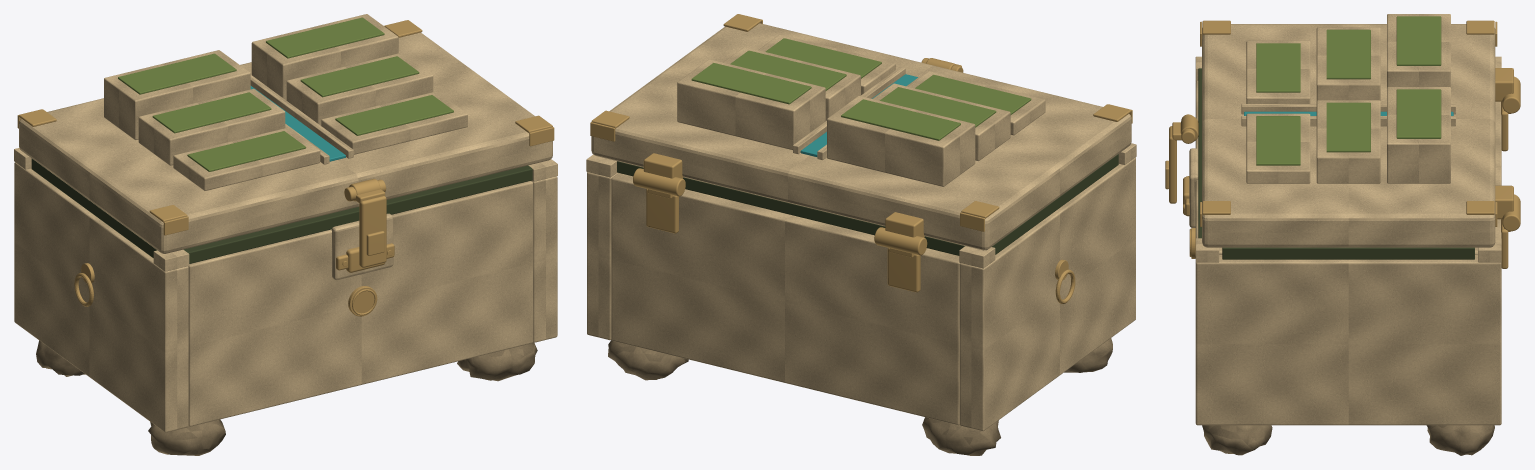
The model's file is oman.glb.
The picture shows the model from 3 angles, left to right: view 1: azimuth 30°, elevation 25°; view 2: azimuth 150°, elevation 25°; view 3: azimuth 270°, elevation 25°; orthographic projection.
Parts seen in each view (by area): view 1: Limestone / long skin, Lid / polished slab, Limestone / side skin, Mineral seam / long, Terrace / stone -1 2, Terrace / stone 1 2, Terrace / stone -1 1, Limestone / side skin.001, Terrace / stone 1 1, Terrace / stone -1 0, Terrace / stone 1 0, Terrace / garden -1 1 (+15 smaller); view 2: Limestone / long skin.001, Lid / polished slab, Limestone / side skin, Terrace / stone -1 2, Terrace / stone 1 2, Limestone / side skin.001, Mineral seam / long.001, Terrace / garden -1 2, Terrace / garden 1 2, Granite foot.001, Terrace / garden 1 1, Terrace / garden -1 0 (+17 smaller); view 3: Limestone / side skin.001, Lid / polished slab, Terrace / stone 1 2, Terrace / stone 1 1, Mineral seam / side.001, Terrace / stone -1 1, Terrace / stone -1 2, Terrace / stone 1 0, Terrace / garden 1 2, Terrace / garden -1 2, Terrace / garden 1 1, Terrace / garden -1 1 (+21 smaller).
Boxes of the visible parts, x1=… form: Limestone / long skin: x1=188, y1=181, x2=533, y2=426; Lid / polished slab: x1=19, y1=32, x2=552, y2=253; Limestone / side skin: x1=14, y1=162, x2=188, y2=432; Mineral seam / long: x1=183, y1=165, x2=532, y2=263; Terrace / stone -1 2: x1=104, y1=50, x2=250, y2=139; Terrace / stone 1 2: x1=251, y1=14, x2=398, y2=100; Terrace / stone -1 1: x1=138, y1=88, x2=285, y2=165; Limestone / side skin.001: x1=531, y1=176, x2=557, y2=342; Terrace / stone 1 1: x1=286, y1=52, x2=433, y2=125; Terrace / stone -1 0: x1=173, y1=127, x2=320, y2=190; Terrace / stone 1 0: x1=321, y1=91, x2=467, y2=154; Terrace / garden -1 1: x1=152, y1=92, x2=271, y2=133; Limestone / long skin.001: x1=611, y1=173, x2=959, y2=425; Lid / polished slab: x1=591, y1=23, x2=1131, y2=250; Limestone / side skin: x1=959, y1=157, x2=1135, y2=431; Terrace / stone -1 2: x1=827, y1=96, x2=975, y2=186; Terrace / stone 1 2: x1=677, y1=59, x2=825, y2=150; Limestone / side skin.001: x1=587, y1=172, x2=618, y2=340; Mineral seam / long.001: x1=617, y1=161, x2=964, y2=255; Terrace / garden -1 2: x1=841, y1=99, x2=960, y2=140; Terrace / garden 1 2: x1=691, y1=63, x2=811, y2=104; Granite foot.001: x1=922, y1=417, x2=1000, y2=455; Terrace / garden 1 1: x1=730, y1=50, x2=846, y2=90; Terrace / garden -1 0: x1=915, y1=74, x2=1031, y2=114; Limestone / side skin.001: x1=1195, y1=255, x2=1501, y2=425; Lid / polished slab: x1=1202, y1=24, x2=1495, y2=247; Terrace / stone 1 2: x1=1387, y1=87, x2=1450, y2=183; Terrace / stone 1 1: x1=1316, y1=100, x2=1380, y2=183; Mineral seam / side.001: x1=1222, y1=247, x2=1474, y2=259; Terrace / stone -1 1: x1=1316, y1=27, x2=1380, y2=100; Terrace / stone -1 2: x1=1387, y1=14, x2=1450, y2=87; Terrace / stone 1 0: x1=1246, y1=113, x2=1310, y2=183; Terrace / garden 1 2: x1=1396, y1=89, x2=1441, y2=138; Terrace / garden -1 2: x1=1396, y1=16, x2=1441, y2=65; Terrace / garden 1 1: x1=1326, y1=102, x2=1370, y2=152; Terrace / garden -1 1: x1=1326, y1=29, x2=1370, y2=79.
Bounding box in the file's own units: 3.79 × 2.67 × 2.88.
Materials: 6 (2 with a texture image).
